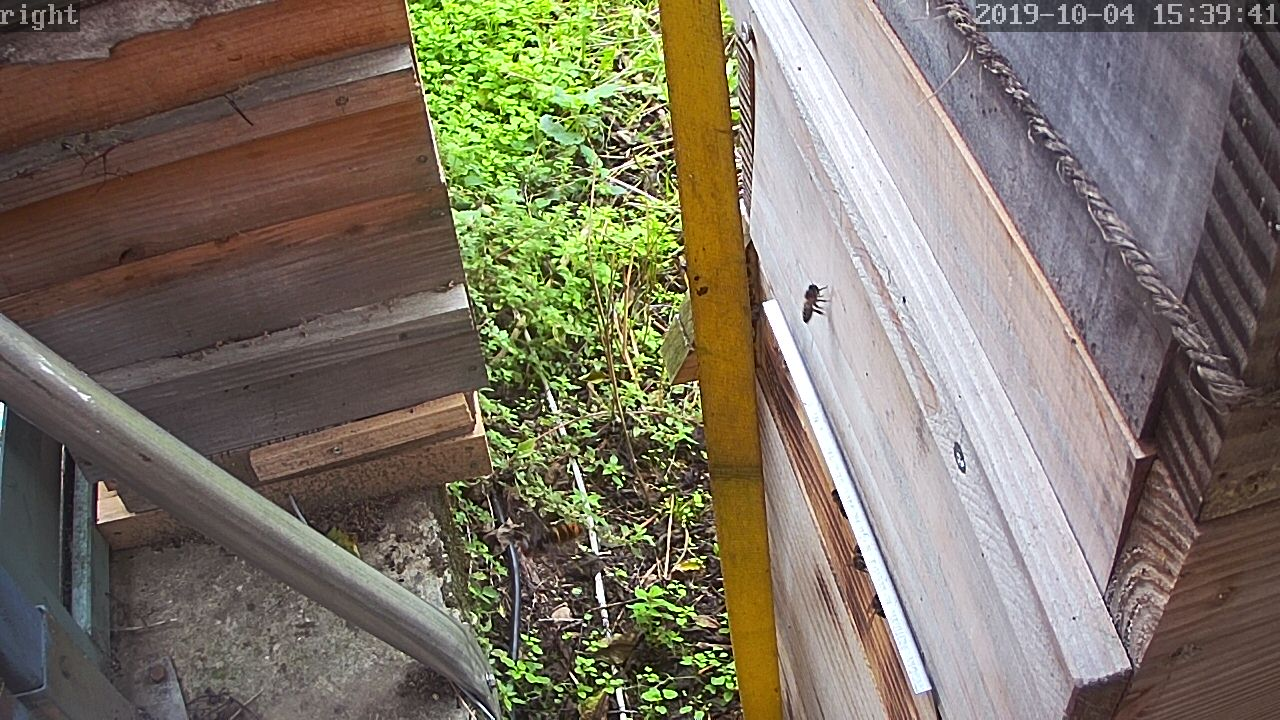bee: (796, 280, 837, 326), (844, 540, 877, 574), (859, 592, 893, 622), (826, 488, 851, 520)
hornet: (536, 500, 589, 555)
